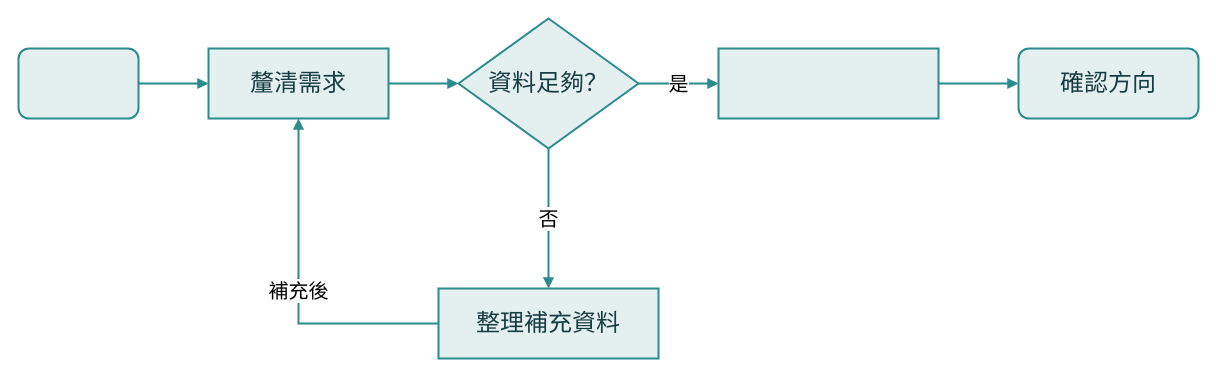
The diagram is 1216 pixels wide and 376 high, and some of its shapes have lost their labels. The shapes that lost their labels are listed below. From the top down, each one's box as (x1, y1, x2, y2) in pixels, then its label:
(17, 47, 139, 119): 開始
(717, 47, 939, 119): 製作風格樣張
